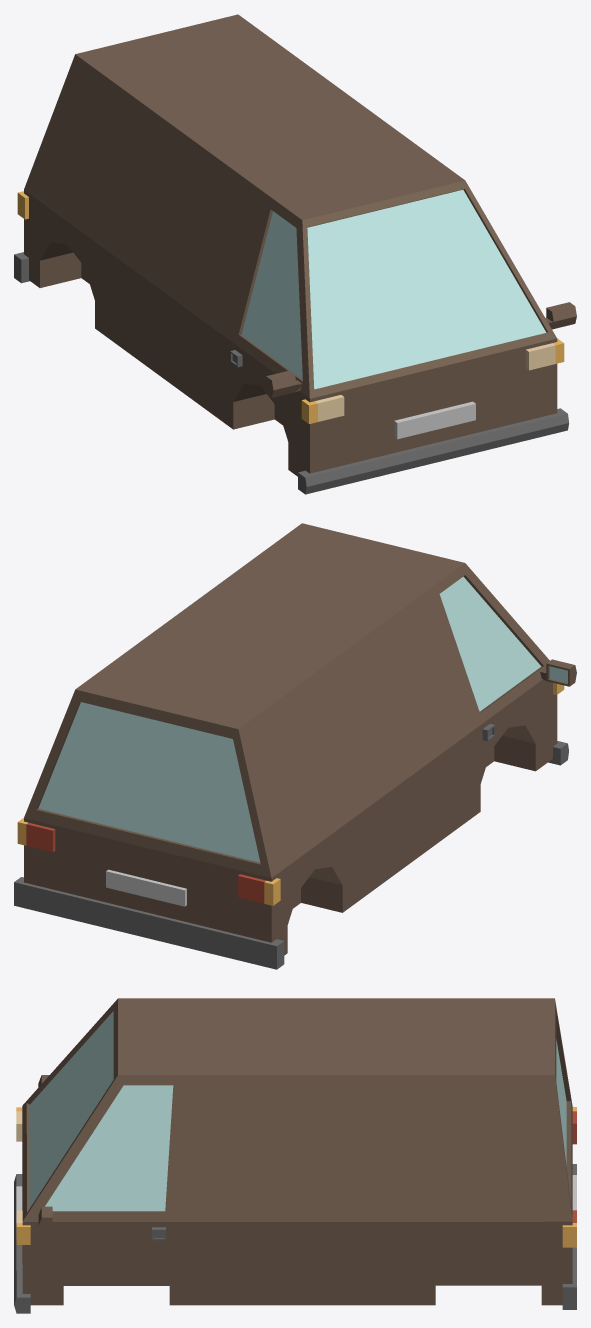
File: Car_10.fbx
The picture shows the model from 3 angles, top to bottom: view 1: azimuth 30°, elevation 25°; view 2: azimuth 150°, elevation 25°; view 3: azimuth 270°, elevation 25°; orthographic projection. The views are drawn at different scales.
Visible parts, largest first — view 1: Car_10; view 2: Car_10; view 3: Car_10.
Part boxes in pixels (bbox=[...]): Car_10: bbox=[14, 14, 576, 494]; Car_10: bbox=[14, 523, 576, 969]; Car_10: bbox=[14, 998, 576, 1313].
Size of the model in its own units: 214 by 151 by 357.
